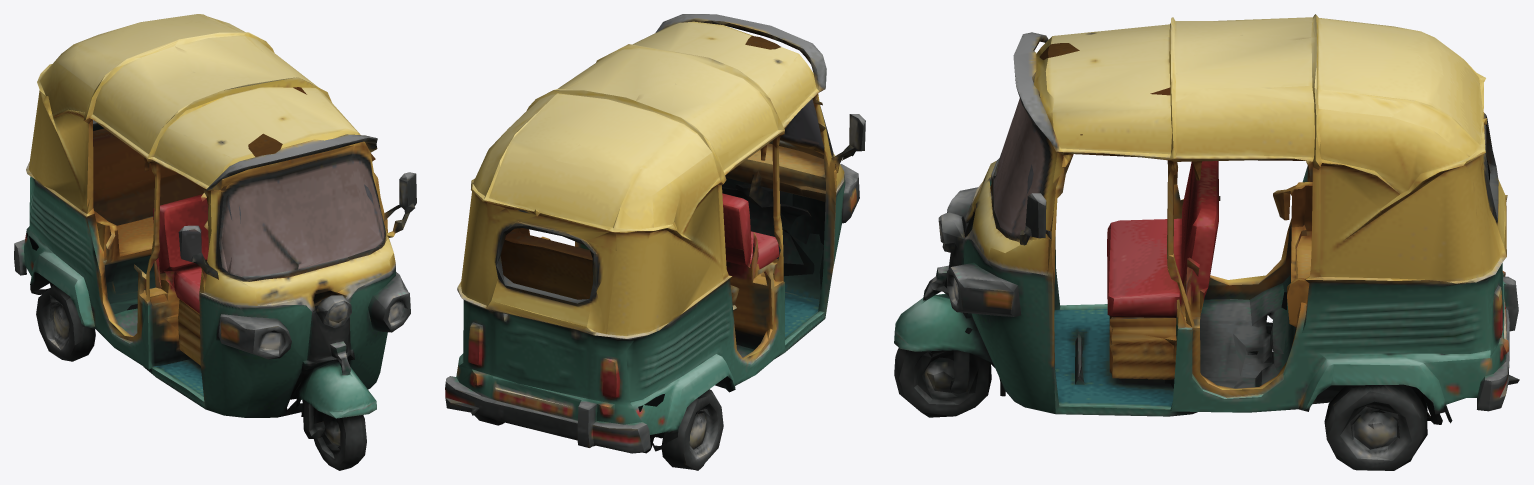
Rendered from auto.glb.
The picture shows the model from 3 angles, left to right: view 1: azimuth 30°, elevation 25°; view 2: azimuth 150°, elevation 25°; view 3: azimuth 270°, elevation 25°; orthographic projection. The views are drawn at different scales.
Parts seen in each view (by area): view 1: Autorickshaw_Autorickshaw_0; view 2: Autorickshaw_Autorickshaw_0; view 3: Autorickshaw_Autorickshaw_0.
Part boxes in pixels (x1,y1,x2,y2): Autorickshaw_Autorickshaw_0: [14, 14, 416, 470]; Autorickshaw_Autorickshaw_0: [445, 14, 865, 470]; Autorickshaw_Autorickshaw_0: [894, 14, 1519, 470].
Bounding box in the file's own units: 1.77 × 2.25 × 3.4.
1 material, 1 textured.
